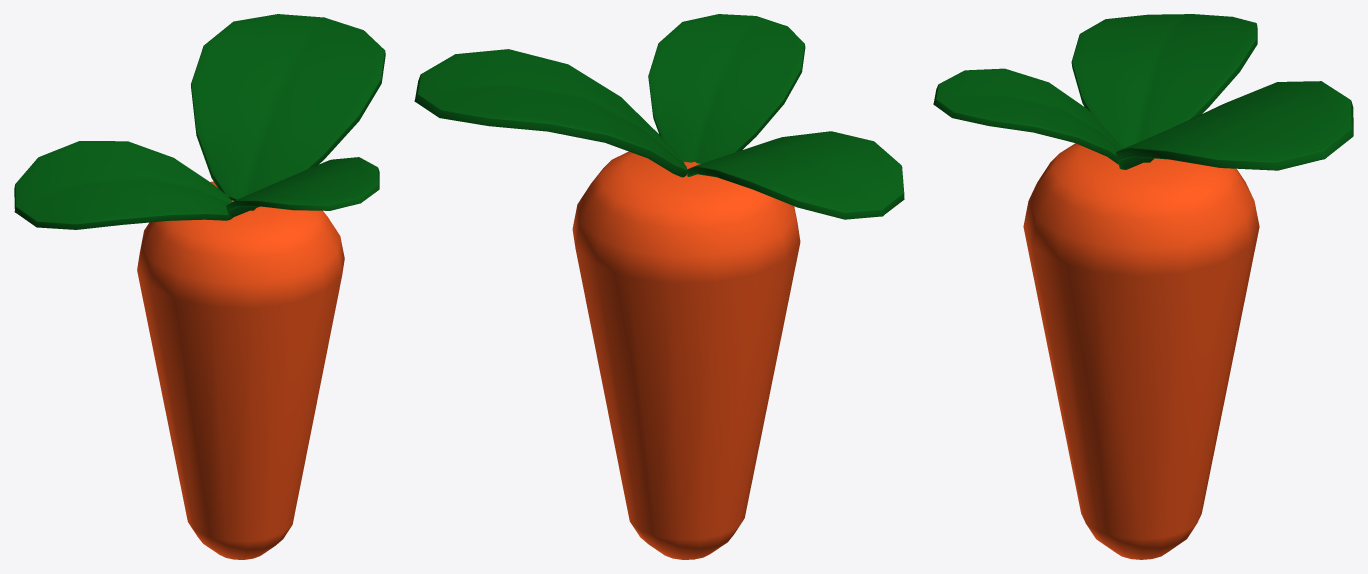
Rendered from Farm_1_Carrot_2.glb.
The picture shows the model from 3 angles, left to right: view 1: azimuth 30°, elevation 25°; view 2: azimuth 150°, elevation 25°; view 3: azimuth 270°, elevation 25°; orthographic projection. The views are drawn at different scales.
Parts seen in each view (by area): view 1: Farm_1_Carrot_2; view 2: Farm_1_Carrot_2; view 3: Farm_1_Carrot_2.
Boxes of the visible parts, x1,y1,x2,y2 form: Farm_1_Carrot_2: (14,14,385,559); Farm_1_Carrot_2: (414,14,904,559); Farm_1_Carrot_2: (933,14,1353,559).
Bounding box in the file's own units: 0.4839 × 0.5309 × 0.404.
1 material, 1 textured.
